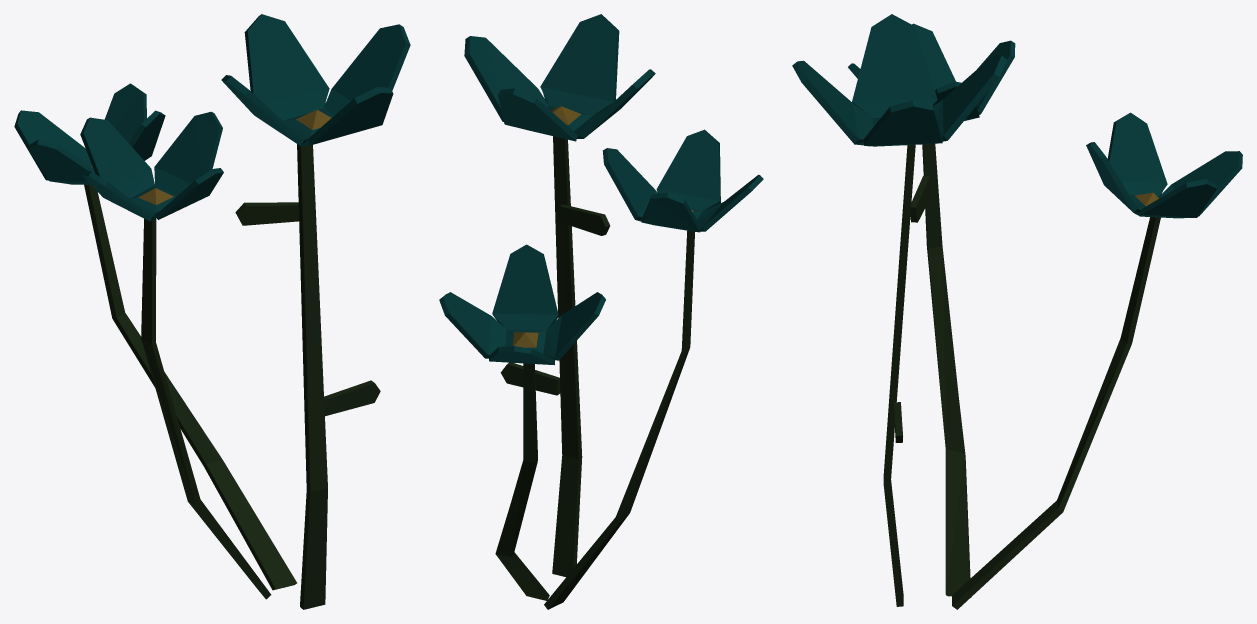
File: Flowers.obj
3 views of the same model, side by side, from view 1: azimuth 30°, elevation 25°; view 2: azimuth 150°, elevation 25°; view 3: azimuth 270°, elevation 25° (orthographic). The views are drawn at different scales.
Visible parts, largest first — view 1: Flowers; view 2: Flowers; view 3: Flowers.
Part boxes in pixels (x1,y1,x2,y2): Flowers: (14, 14, 410, 609); Flowers: (439, 14, 763, 609); Flowers: (792, 14, 1242, 609).
Bounding box in the file's own units: 0.4895 × 0.8289 × 0.6137.
